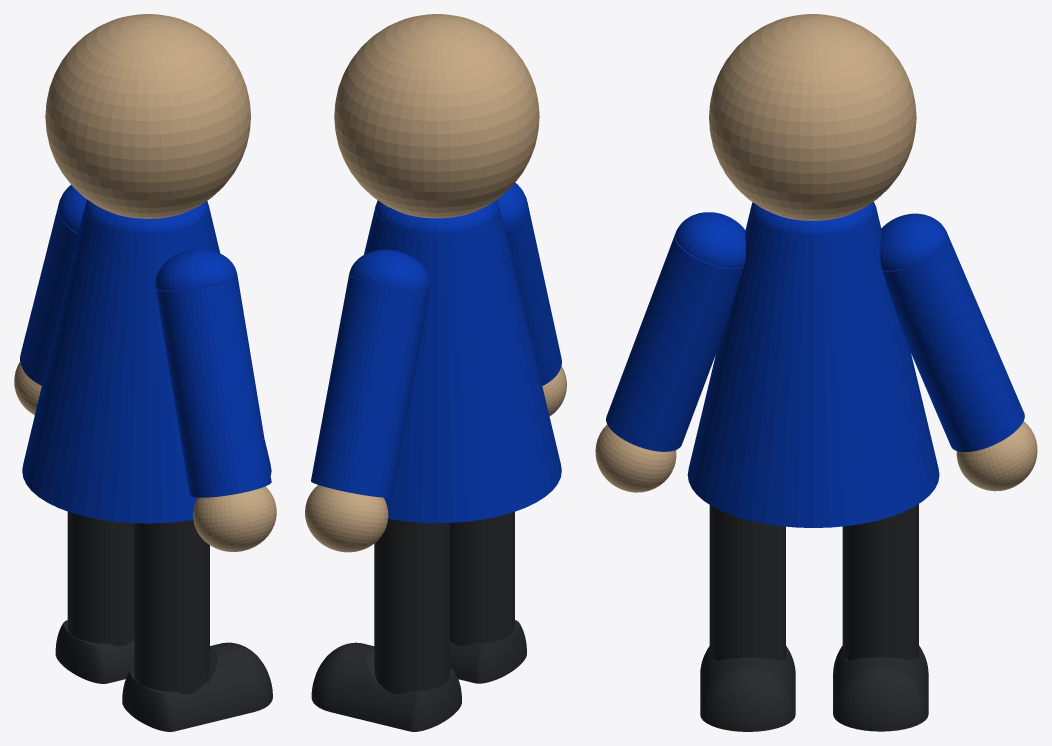
File: playerBase.glb
3 renders of one model, left to right at view 1: azimuth 30°, elevation 25°; view 2: azimuth 150°, elevation 25°; view 3: azimuth 270°, elevation 25°, orthographic.
Parts seen in each view (by area): view 1: Mesh_Mesh_head_geo001_lambert2SG001; view 2: Mesh_Mesh_head_geo001_lambert2SG001; view 3: Mesh_Mesh_head_geo001_lambert2SG001.
Part boxes in pixels (x1,y1,x2,y2): Mesh_Mesh_head_geo001_lambert2SG001: [14, 14, 276, 731]; Mesh_Mesh_head_geo001_lambert2SG001: [305, 14, 566, 731]; Mesh_Mesh_head_geo001_lambert2SG001: [595, 14, 1037, 731].
Bounding box in the file's own units: 25.7 × 75.02 × 45.11.
